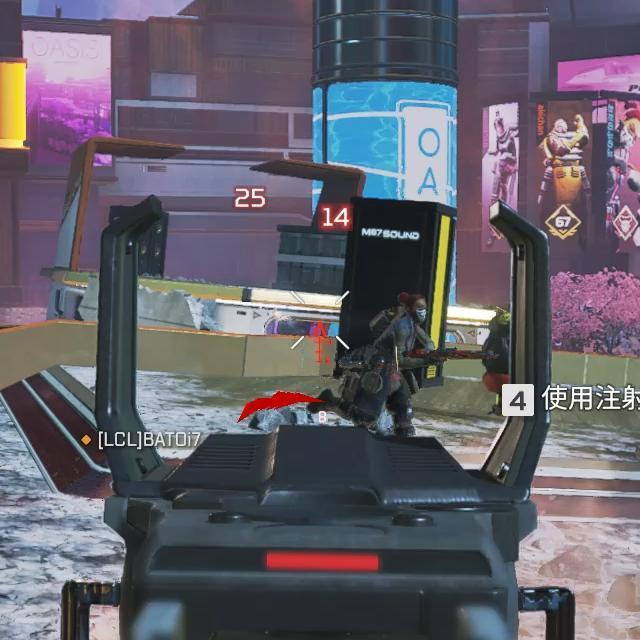avatar: (305, 289, 436, 438)
